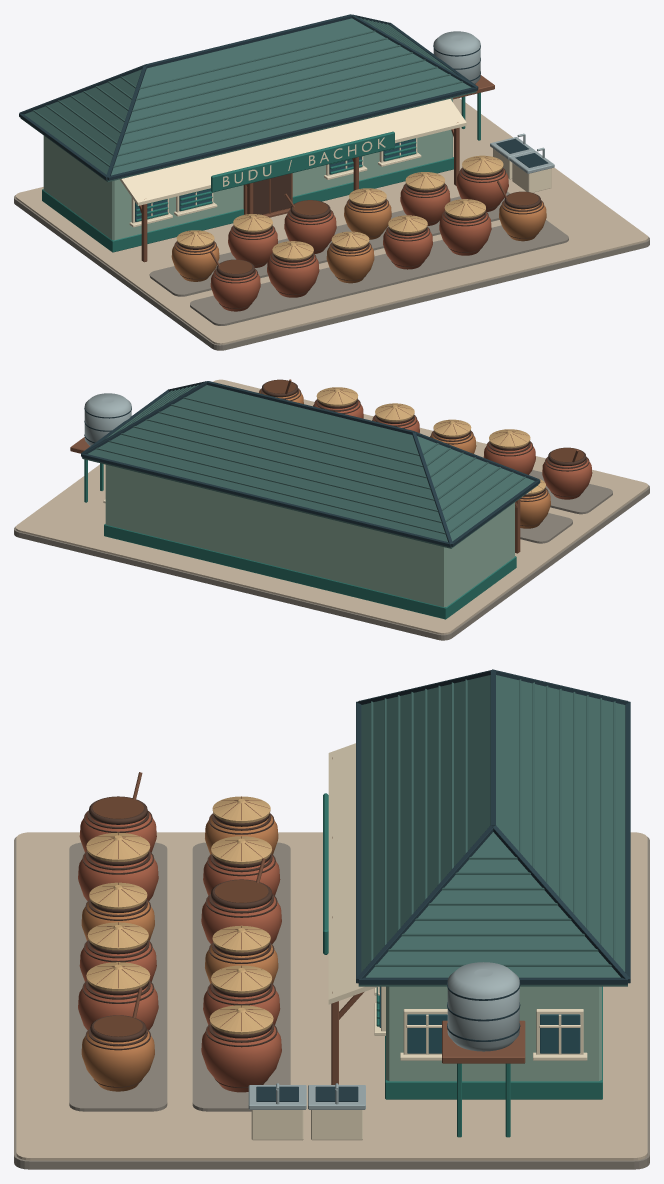
3 renders of one model, top to bottom at view 1: azimuth 30°, elevation 25°; view 2: azimuth 150°, elevation 25°; view 3: azimuth 270°, elevation 25°, orthographic. The views are drawn at different scales.
Visible parts, largest first — view 1: Sea Green Zinc Roof, Saltwashed Paving, Bottling House, Fermentation Crocks, Washing Bench; view 2: Sea Green Zinc Roof, Bottling House, Saltwashed Paving, Fermentation Crocks, Washing Bench; view 3: Saltwashed Paving, Sea Green Zinc Roof, Fermentation Crocks, Bottling House, Washing Bench.
Boxes of the visible parts, x1=… form: Sea Green Zinc Roof: x1=19, y1=14, x2=478, y2=181; Saltwashed Paving: x1=14, y1=98, x2=649, y2=350; Bottling House: x1=42, y1=98, x2=466, y2=262; Fermentation Crocks: x1=171, y1=155, x2=546, y2=311; Washing Bench: x1=433, y1=31, x2=554, y2=192; Sea Green Zinc Roof: x1=81, y1=381, x2=540, y2=548; Bottling House: x1=103, y1=464, x2=528, y2=619; Saltwashed Paving: x1=14, y1=379, x2=649, y2=640; Fermentation Crocks: x1=259, y1=379, x2=592, y2=528; Washing Bench: x1=70, y1=393, x2=131, y2=502; Saltwashed Paving: x1=14, y1=832, x2=649, y2=1169; Sea Green Zinc Roof: x1=356, y1=669, x2=630, y2=986; Fermentation Crocks: x1=78, y1=772, x2=281, y2=1092; Bottling House: x1=323, y1=743, x2=602, y2=1099; Washing Bench: x1=248, y1=962, x2=525, y2=1140.
Size of the model in its own units: 20 by 6.68 by 16.4.
